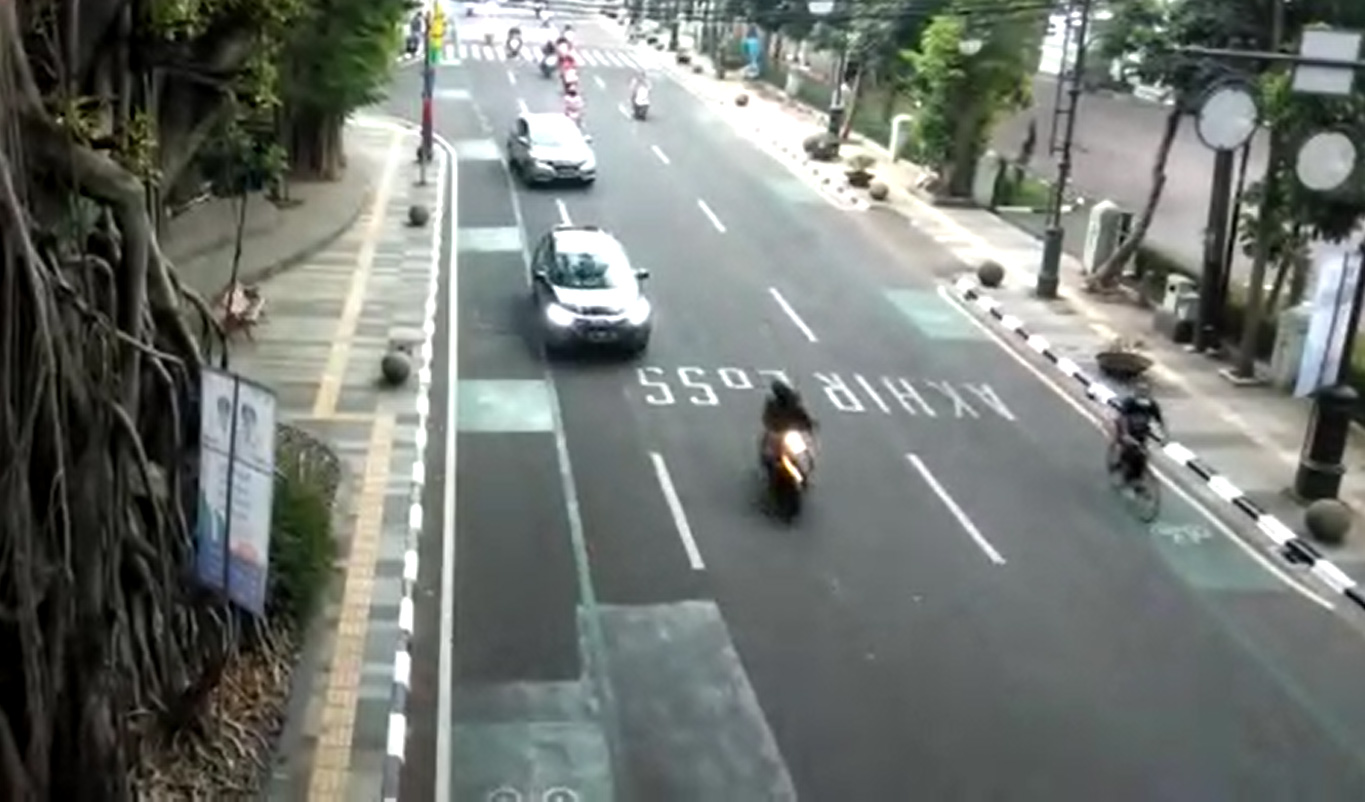mobil: (511, 208, 666, 379), (497, 99, 611, 198)
motor: (740, 365, 834, 539)
